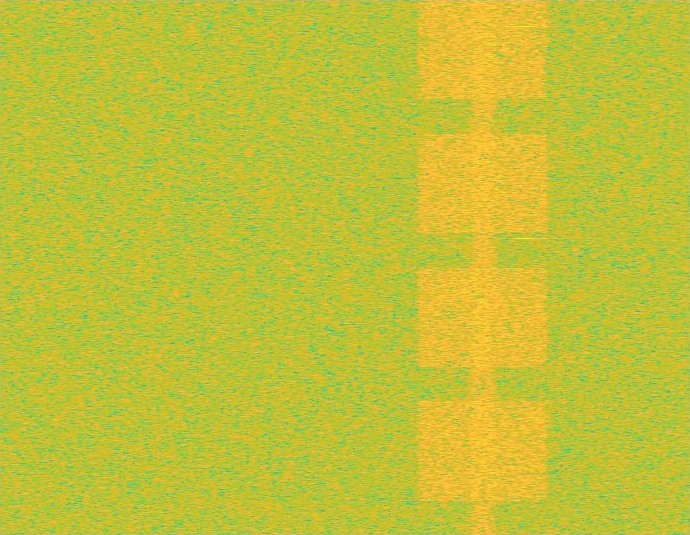5G: (414, 0, 552, 534)
DSSS: (467, 0, 499, 534)
Radar: (518, 0, 532, 534)
